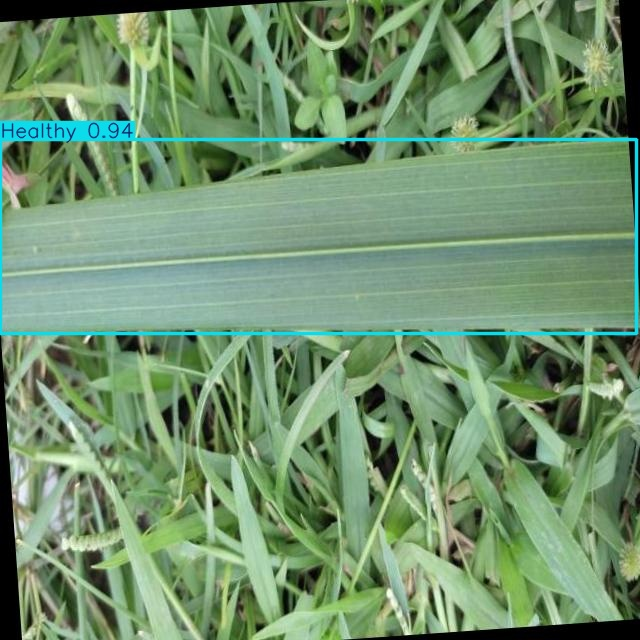Healthy: (0, 139, 636, 334)
